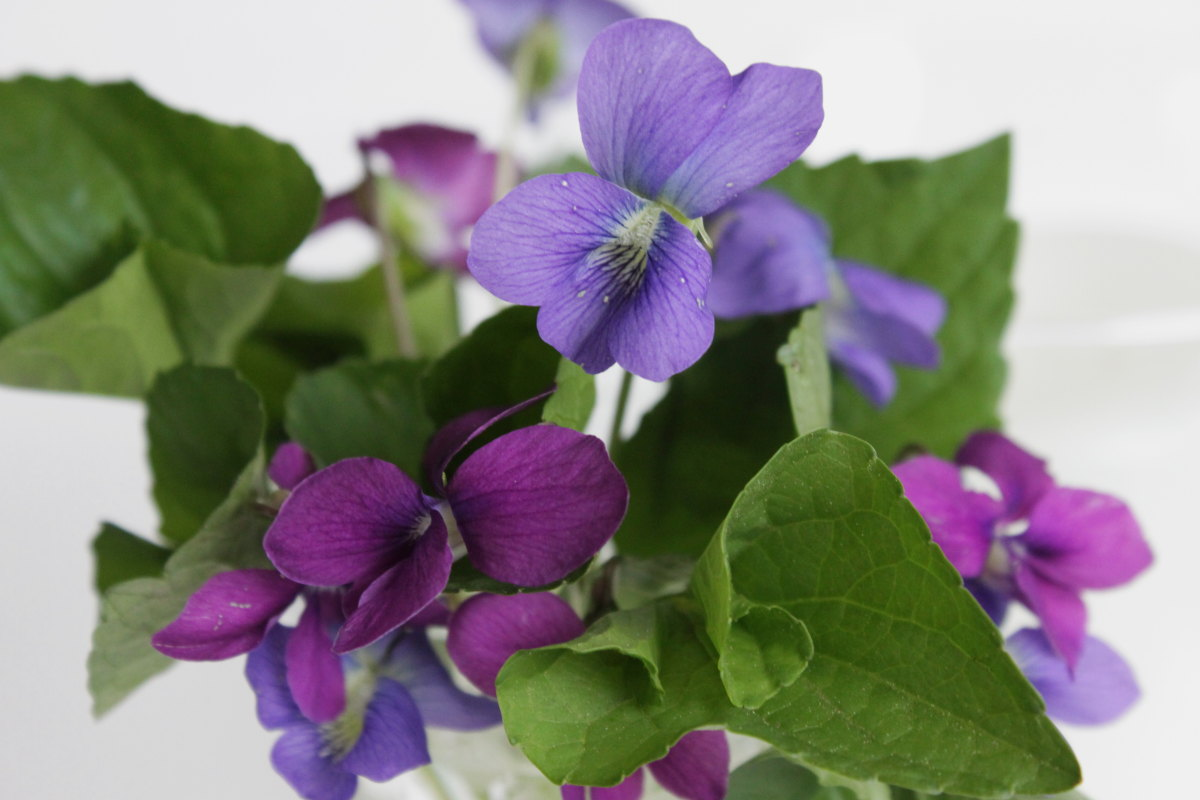violet: (482, 19, 776, 376), (197, 428, 638, 592), (889, 395, 1162, 641)
